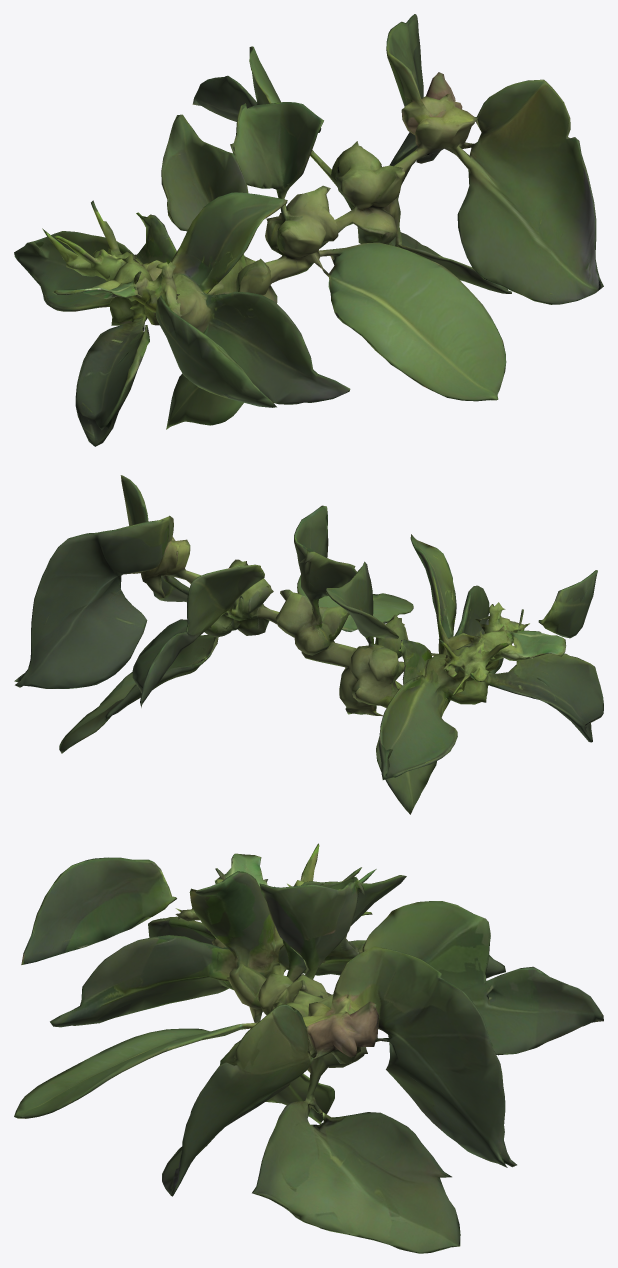
File: Ashwa.glb
3 views of the same model, one above another, from view 1: azimuth 30°, elevation 25°; view 2: azimuth 150°, elevation 25°; view 3: azimuth 270°, elevation 25° (orthographic). The views are drawn at different scales.
Visible parts, largest first — view 1: Object_4; view 2: Object_4; view 3: Object_4.
Part boxes in pixels (box(x1,y1,x2,y2)): Object_4: box(14, 14, 603, 446); Object_4: box(14, 475, 603, 814); Object_4: box(14, 843, 603, 1253).
Bounding box in the file's own units: 1.98 × 1.11 × 1.96.
1 material, 1 textured.
